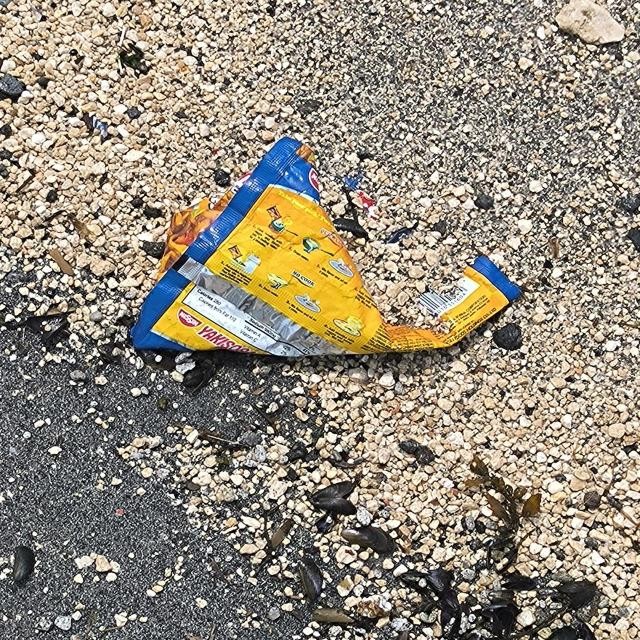plastic_waste: (128, 135, 524, 358)
